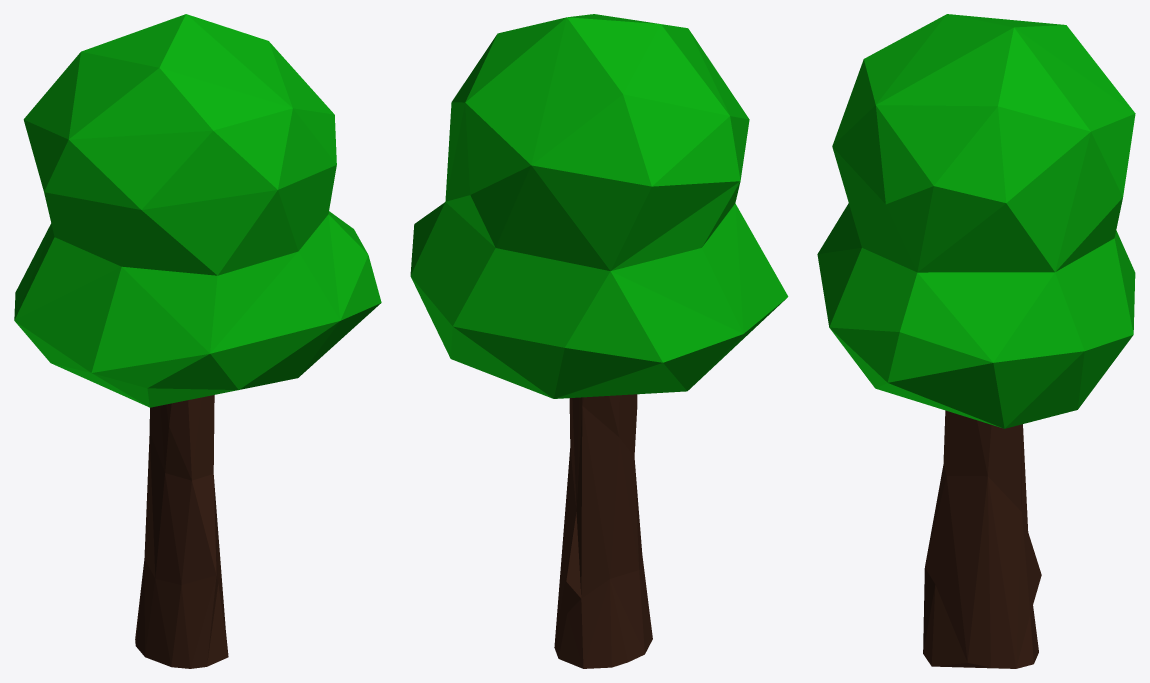
File: baum3-3.fbx
3 views of the same model, side by side, from view 1: azimuth 30°, elevation 25°; view 2: azimuth 150°, elevation 25°; view 3: azimuth 270°, elevation 25° (orthographic). The views are drawn at different scales.
Visible parts, largest first — view 1: Sphere, Cylinder; view 2: Sphere, Cylinder; view 3: Sphere, Cylinder.
Part boxes in pixels (bbox=[...]): Sphere: bbox=[14, 14, 381, 407]; Cylinder: bbox=[135, 395, 228, 668]; Sphere: bbox=[410, 14, 788, 398]; Cylinder: bbox=[554, 394, 652, 668]; Sphere: bbox=[817, 14, 1135, 428]; Cylinder: bbox=[923, 410, 1041, 668].
Bounding box in the file's own units: 1727 × 3087 × 1392.
